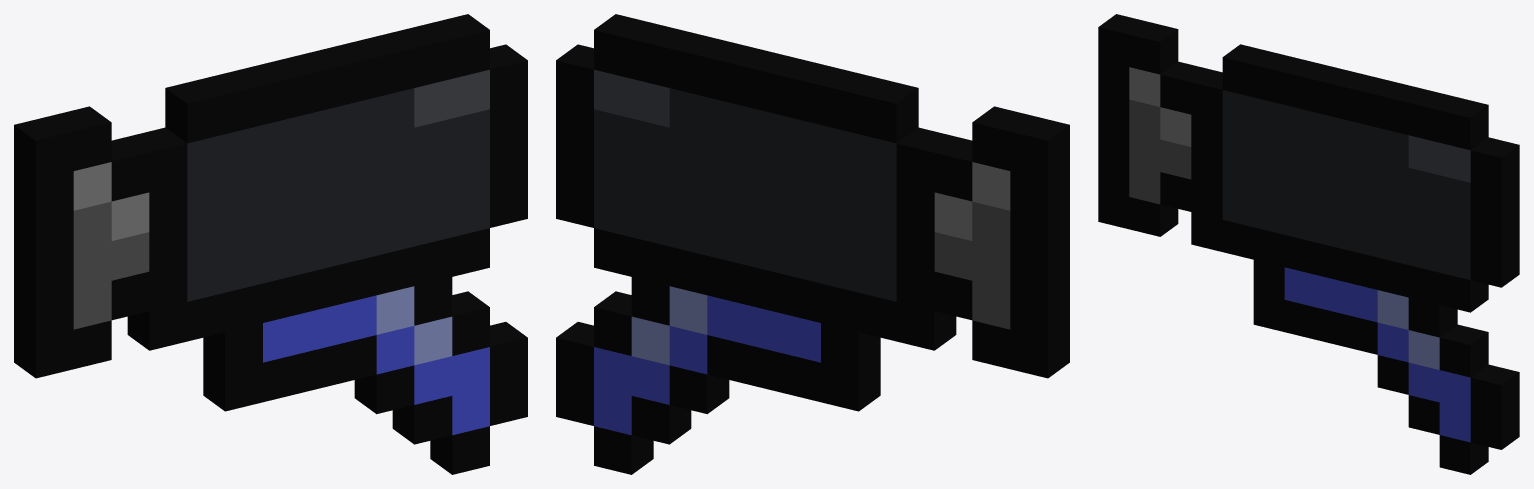
The model's file is Black Paintball Gun.glb.
3 views of the same model, side by side, from view 1: azimuth 30°, elevation 25°; view 2: azimuth 150°, elevation 25°; view 3: azimuth 330°, elevation 25° (orthographic). The views are drawn at different scales.
Visible parts, largest first — view 1: generated(Clone); view 2: generated(Clone); view 3: generated(Clone).
Boxes of the visible parts, x1,y1,x2,y2 form: generated(Clone): (14, 14, 527, 474); generated(Clone): (556, 14, 1069, 474); generated(Clone): (1098, 14, 1519, 474).
Bounding box in the file's own units: 13 × 11 × 1.
1 material, 1 textured.
